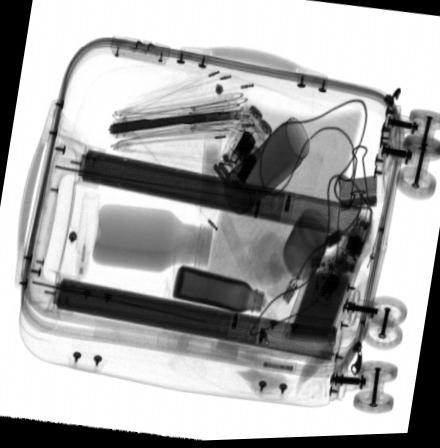Powerbank: (281, 256, 361, 348)
